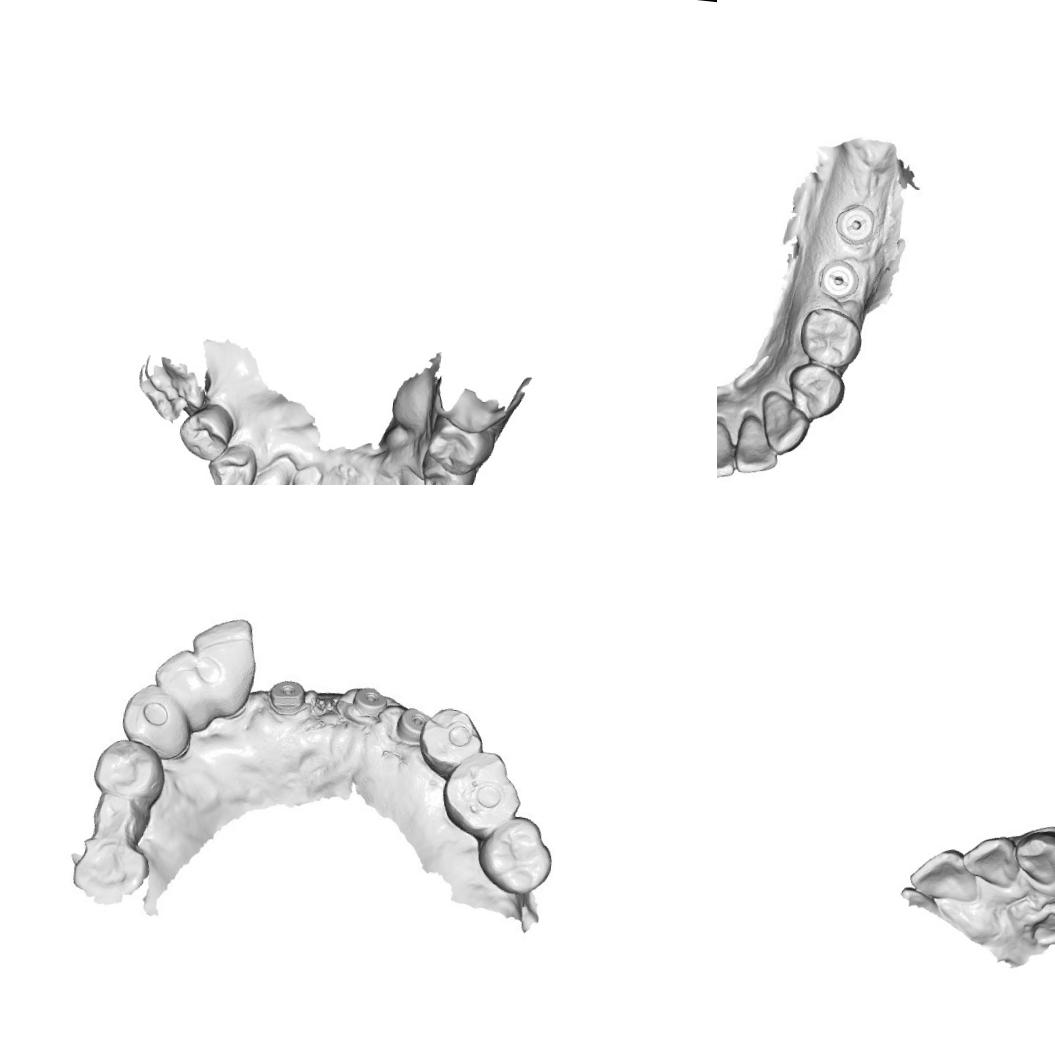canine: (112, 677, 194, 761), (756, 389, 811, 458), (1009, 825, 1055, 888), (237, 455, 293, 485), (395, 468, 448, 485)
implant: (341, 681, 390, 727), (266, 679, 306, 720), (395, 708, 431, 742)
implant_minus: (832, 200, 879, 249), (816, 262, 858, 300)
incisor: (184, 611, 264, 720), (146, 642, 222, 736), (906, 842, 982, 906), (957, 830, 1023, 896), (732, 414, 784, 478), (717, 419, 739, 484), (302, 463, 353, 485), (270, 463, 316, 485), (337, 466, 377, 485)
molar: (436, 746, 530, 839), (475, 810, 562, 895), (63, 838, 152, 906)
premolar: (89, 732, 174, 805), (418, 703, 484, 781), (423, 414, 498, 480), (78, 789, 155, 853), (797, 302, 864, 372), (784, 362, 850, 423), (176, 400, 236, 465), (204, 440, 260, 485), (416, 449, 478, 485)
